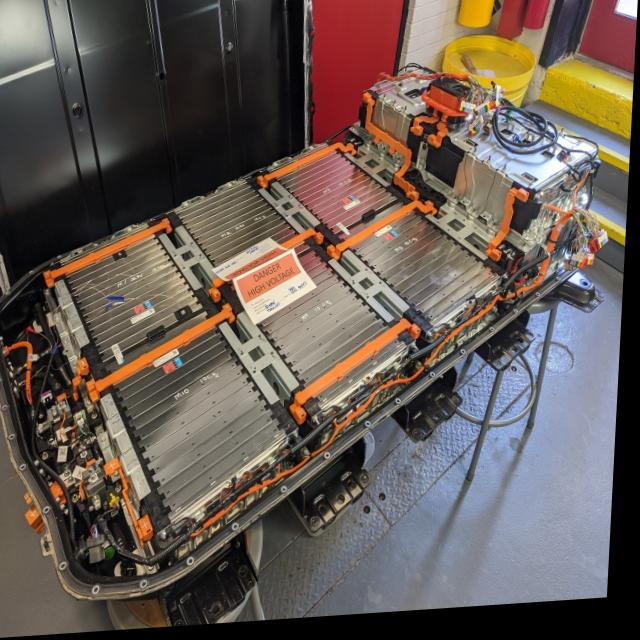Aluminum-frame: (222, 314, 303, 408), (331, 256, 412, 329), (105, 396, 155, 501), (429, 206, 498, 269), (160, 227, 224, 293), (262, 185, 322, 236), (347, 148, 401, 194), (58, 280, 92, 347)
Battery Module: (121, 329, 284, 518), (243, 246, 388, 386), (357, 216, 498, 334), (71, 239, 201, 363), (180, 185, 294, 276), (281, 157, 397, 237)
Bolt: (91, 464, 103, 484), (55, 402, 71, 415), (69, 469, 79, 486), (85, 444, 93, 458), (46, 288, 56, 297), (307, 453, 315, 464), (119, 471, 125, 483), (58, 312, 65, 322), (491, 321, 498, 331), (66, 337, 73, 346), (76, 360, 82, 370), (153, 567, 161, 574), (106, 437, 112, 446), (466, 342, 472, 350), (421, 367, 426, 374)
Bus-bar: (90, 305, 239, 403), (295, 324, 424, 428), (46, 220, 174, 287), (212, 232, 326, 306), (330, 206, 440, 264), (364, 97, 422, 206), (259, 147, 359, 191), (109, 459, 159, 542), (490, 194, 532, 267), (412, 115, 440, 142), (429, 128, 450, 153)
Cable: (197, 263, 556, 540), (376, 78, 473, 88)
Nut: (164, 531, 174, 548), (316, 420, 328, 432), (120, 483, 127, 497), (559, 134, 567, 146), (296, 435, 306, 444), (473, 152, 481, 163), (523, 249, 531, 259), (492, 227, 500, 236), (487, 162, 495, 171), (473, 213, 480, 223), (504, 169, 511, 179), (399, 159, 405, 169), (47, 451, 53, 460), (455, 200, 461, 209), (384, 97, 390, 106), (404, 109, 409, 119), (352, 128, 358, 136), (369, 142, 374, 151), (385, 150, 390, 159), (394, 104, 399, 112), (35, 410, 40, 417)
Screw: (423, 143, 430, 156), (94, 506, 100, 514), (109, 501, 114, 509), (43, 415, 48, 421)
